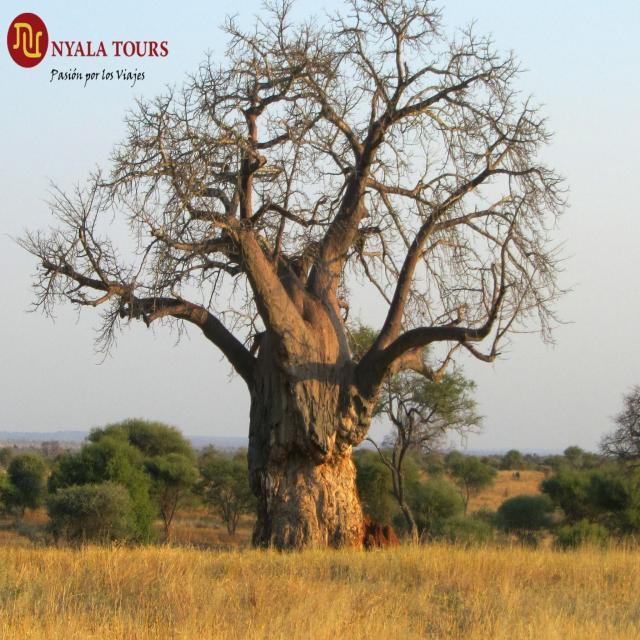baobab: (25, 0, 590, 559)
